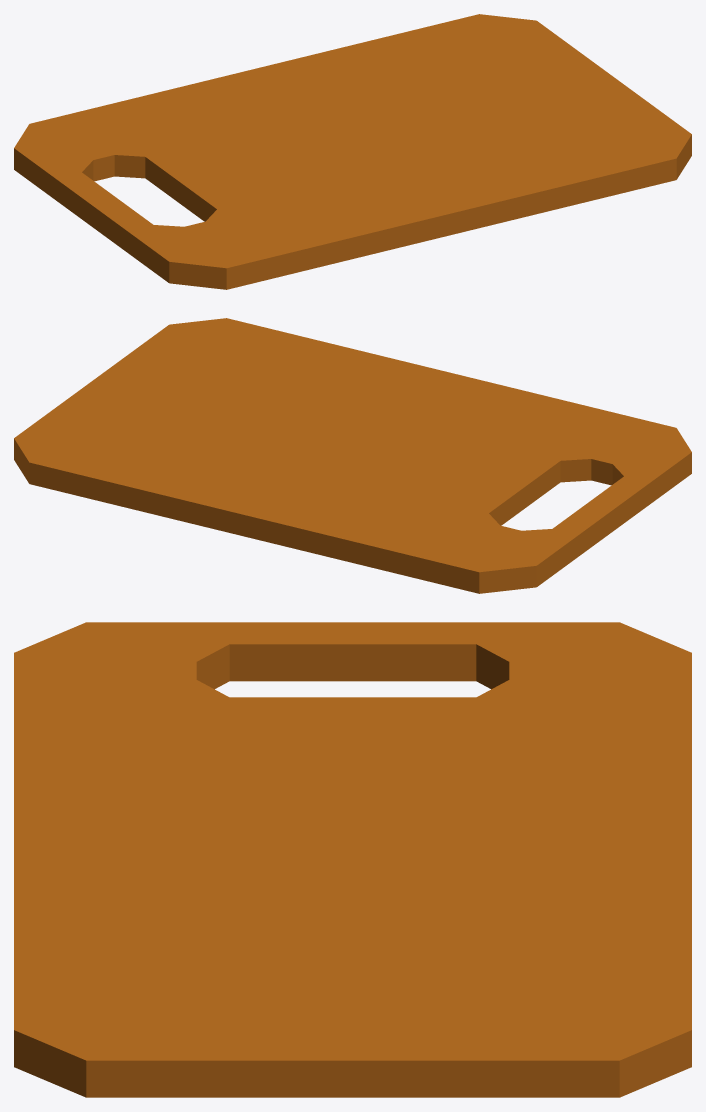
The model's file is tabla de cortar.fbx.
3 views of the same model, one above another, from view 1: azimuth 30°, elevation 25°; view 2: azimuth 150°, elevation 25°; view 3: azimuth 270°, elevation 25° (orthographic). The views are drawn at different scales.
Visible parts, largest first — view 1: Plane.004; view 2: Plane.004; view 3: Plane.004.
Boxes of the visible parts, x1,y1,x2,y2 form: Plane.004: (14,14,691,289); Plane.004: (14,318,691,593); Plane.004: (14,622,691,1097).
Bounding box in the file's own units: 668 × 26.36 × 437.
